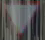Give way: (2, 1, 40, 39)
